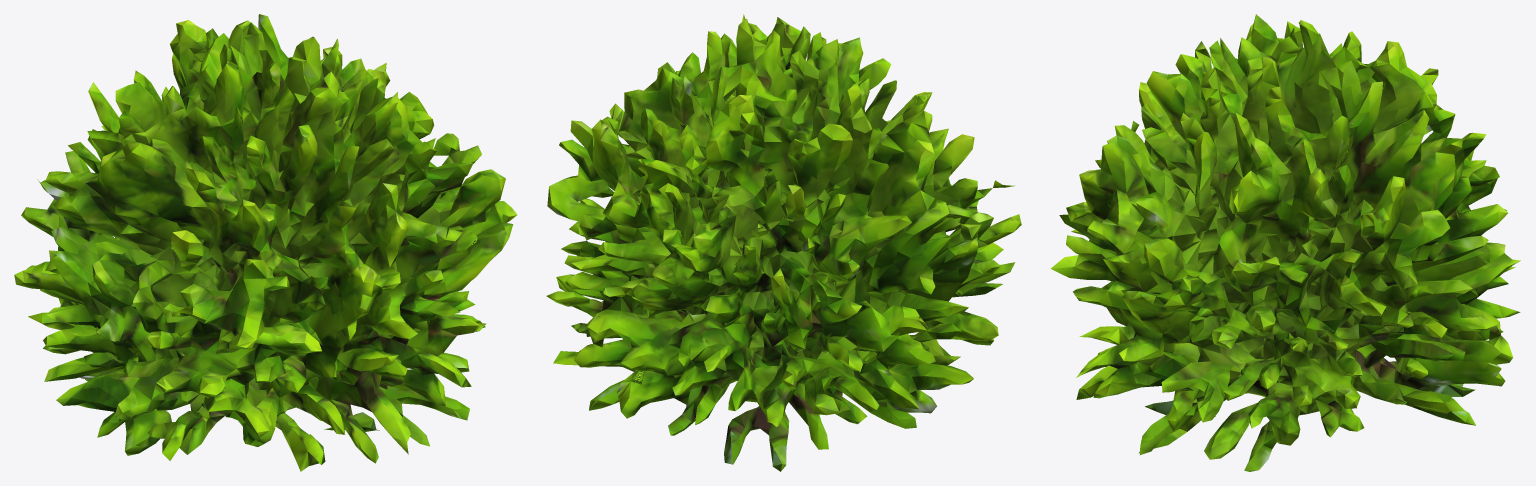
The model's file is green bush 1.fbx.
3 renders of one model, left to right at view 1: azimuth 30°, elevation 25°; view 2: azimuth 150°, elevation 25°; view 3: azimuth 270°, elevation 25°, orthographic. The views are drawn at different scales.
Visible parts, largest first — view 1: Mesh_0; view 2: Mesh_0; view 3: Mesh_0.
Part boxes in pixels (x1,y1,x2,y2): Mesh_0: (14, 14, 517, 471); Mesh_0: (546, 14, 1021, 471); Mesh_0: (1050, 14, 1520, 471).
Bounding box in the file's own units: 197 × 176 × 193.
1 material, 1 textured.
